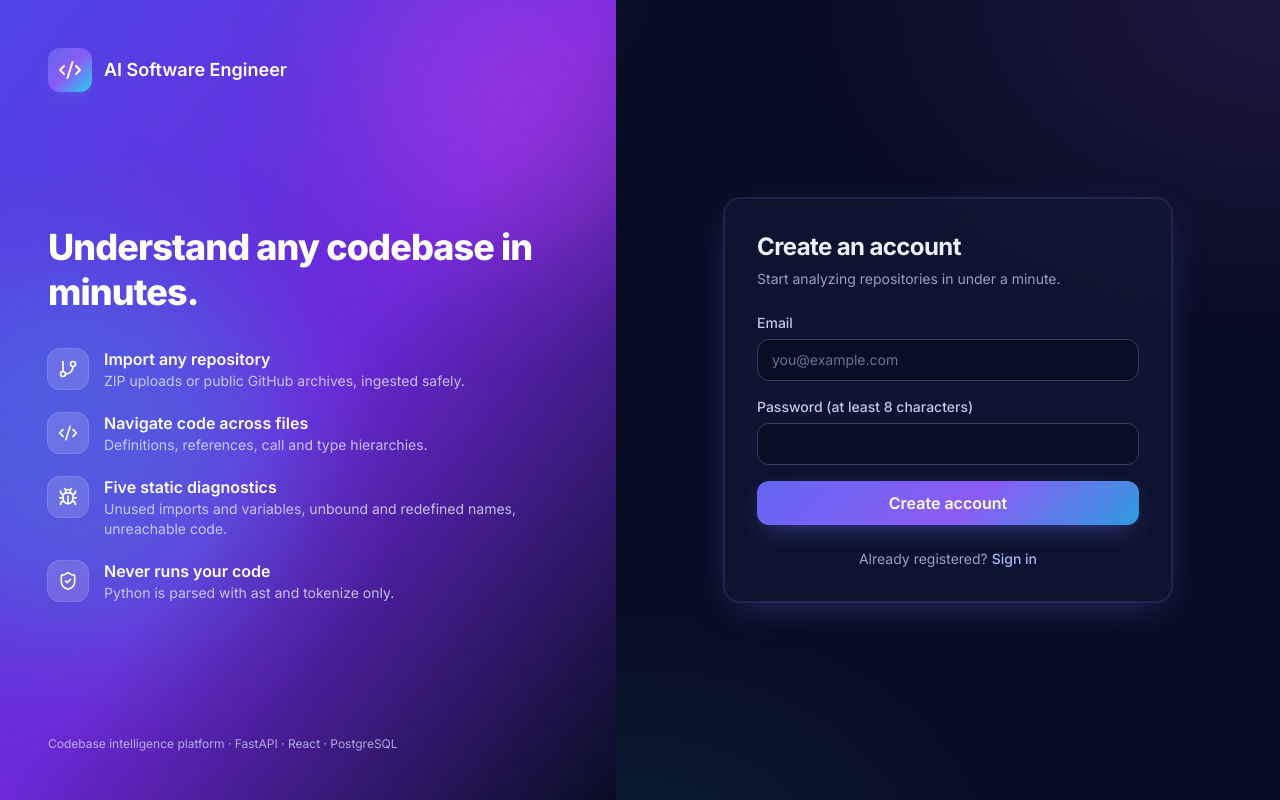
Scenario: registration › shows the duplicate-account error
The width and height of the screenshot is (1280, 800).
In the field labelled "Email": x=948, y=360 [757, 339, 1139, 381], type "alice@example.com"
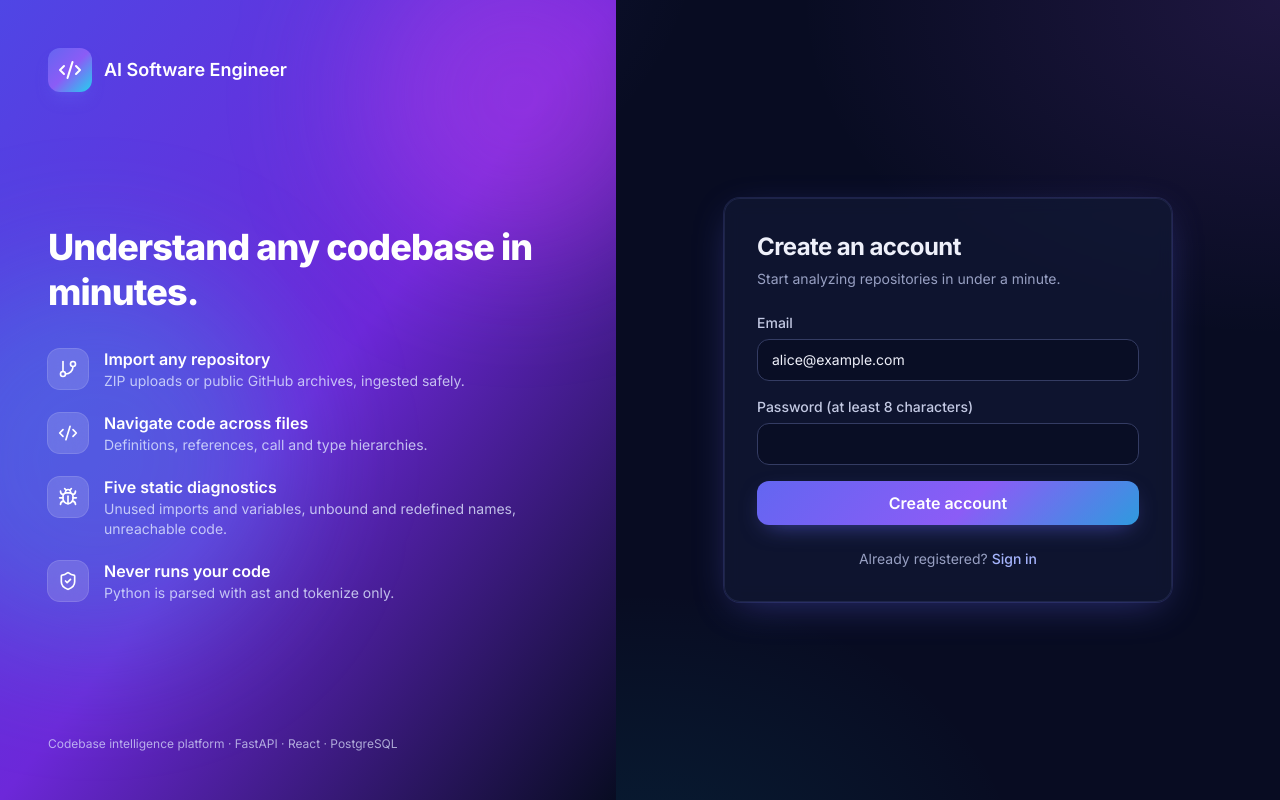
In the password field labelled "Password (at least 8 characters)": x=948, y=444 [757, 423, 1139, 465], type "correct-horse-battery"
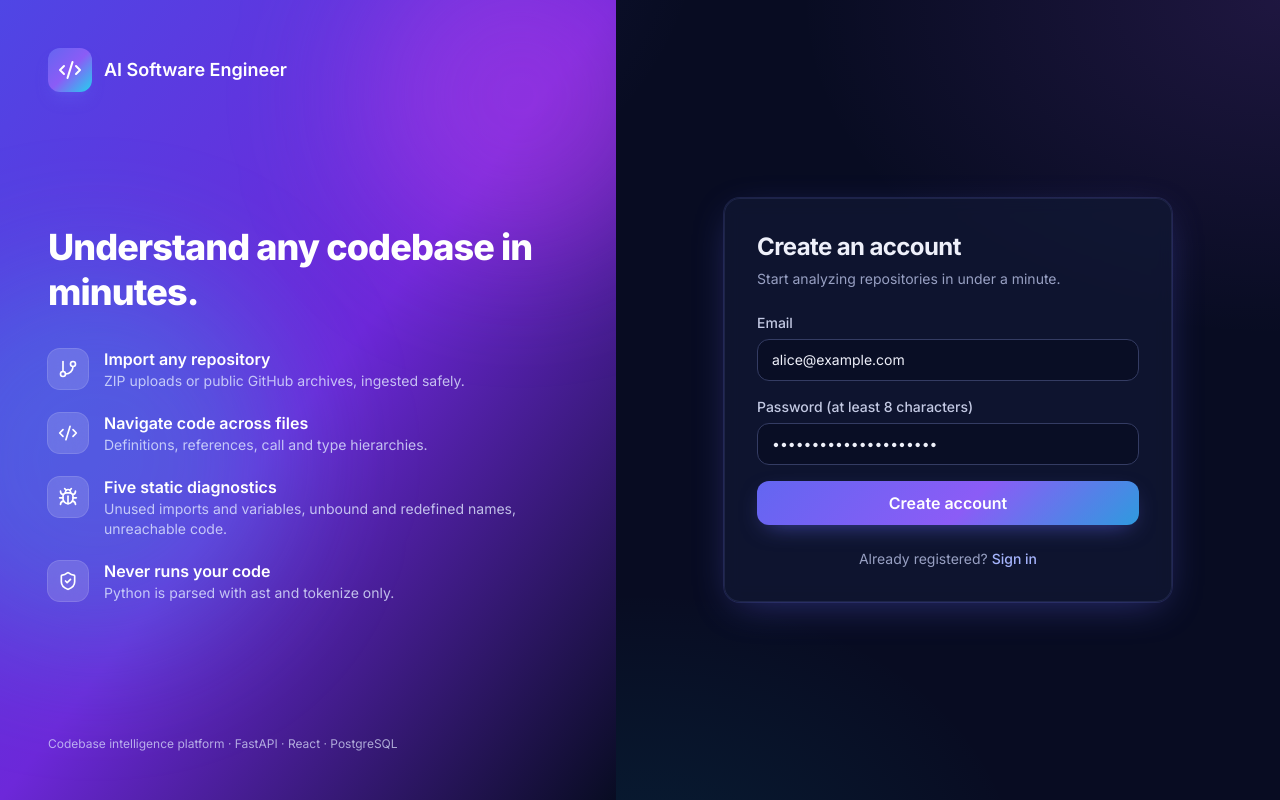
Click the button "Create account": x=948, y=503 [757, 481, 1139, 525]
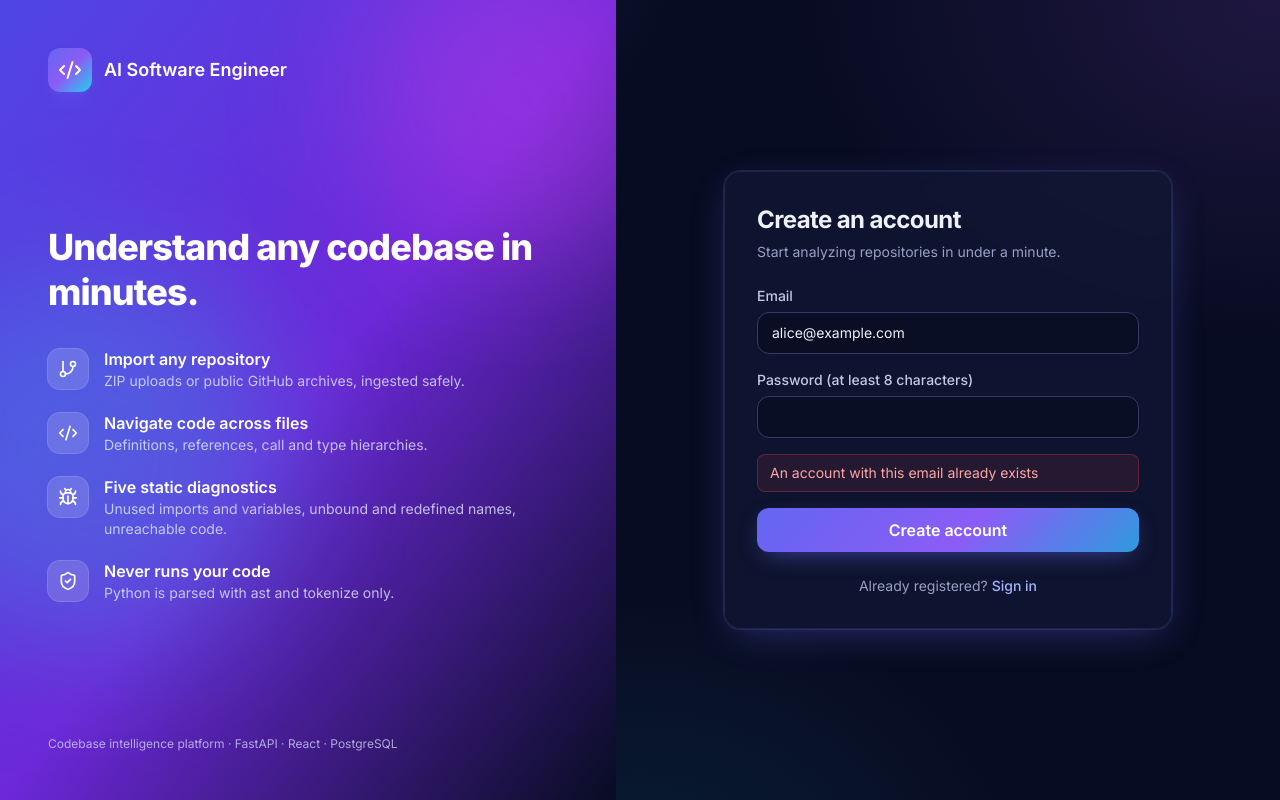
Now the message reads "An account with this email already exists", box [770, 464, 1038, 481]
